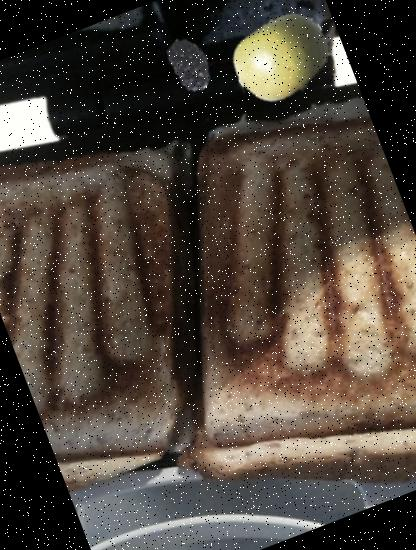Mulberry: (155, 32, 223, 100)
Pomelo: (219, 0, 347, 122)
